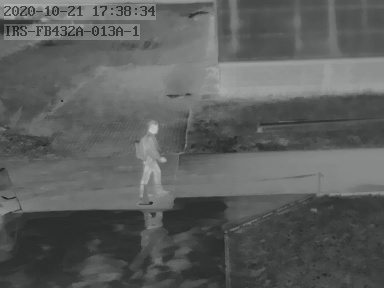person: (134, 119, 166, 192)
